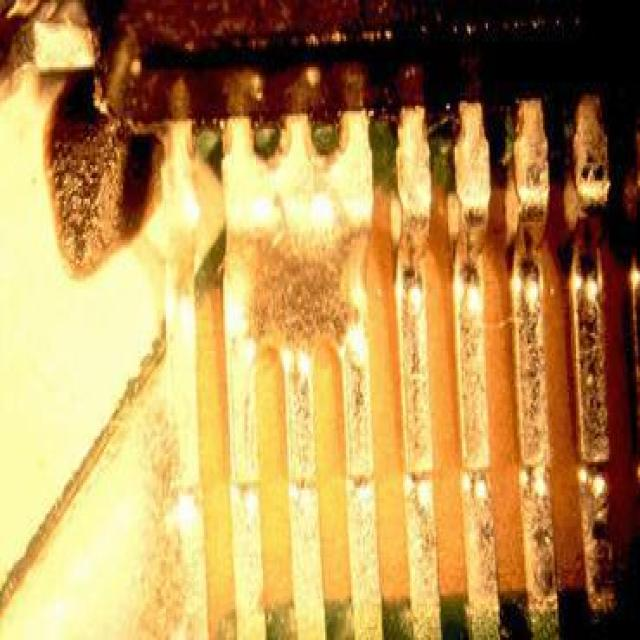Short_circuit: (225, 149, 360, 342)
